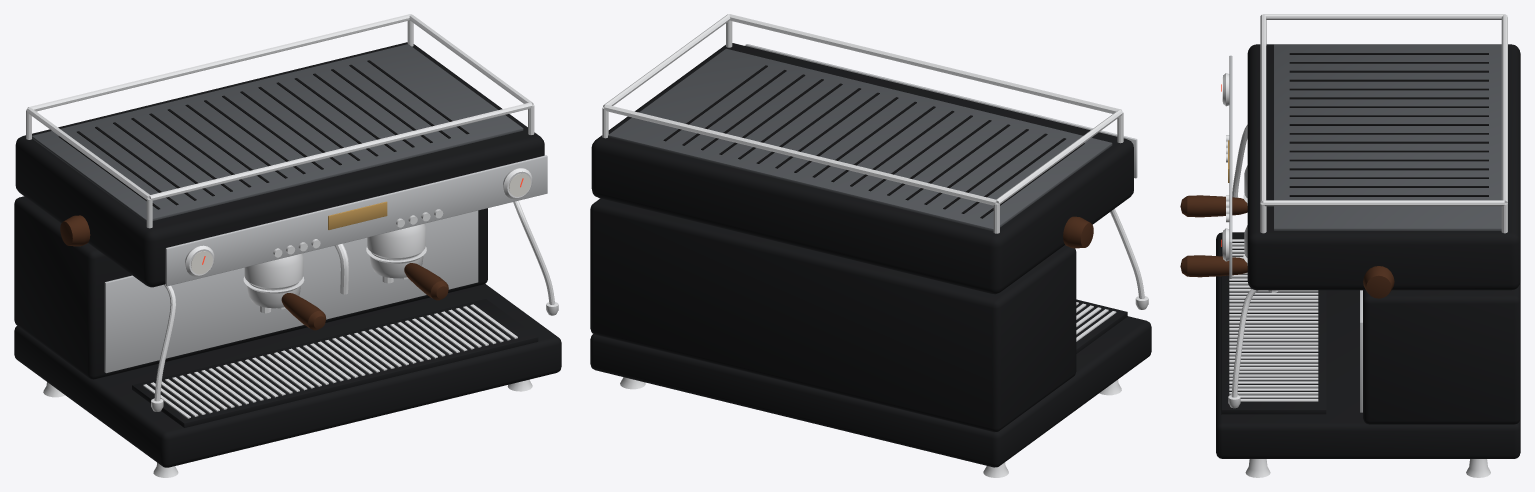
The model's file is espresso_black.glb.
The picture shows the model from 3 angles, left to right: view 1: azimuth 30°, elevation 25°; view 2: azimuth 150°, elevation 25°; view 3: azimuth 270°, elevation 25°; orthographic projection. The views are drawn at different scales.
Visible parts, largest first — view 1: black_2g; view 2: black_2g; view 3: black_2g.
Boxes of the visible parts, x1,y1,x2,y2 form: black_2g: (14,14,561,477); black_2g: (590,14,1151,477); black_2g: (1180,14,1520,477).
Bounding box in the file's own units: 0.96 × 0.5859 × 0.648.
